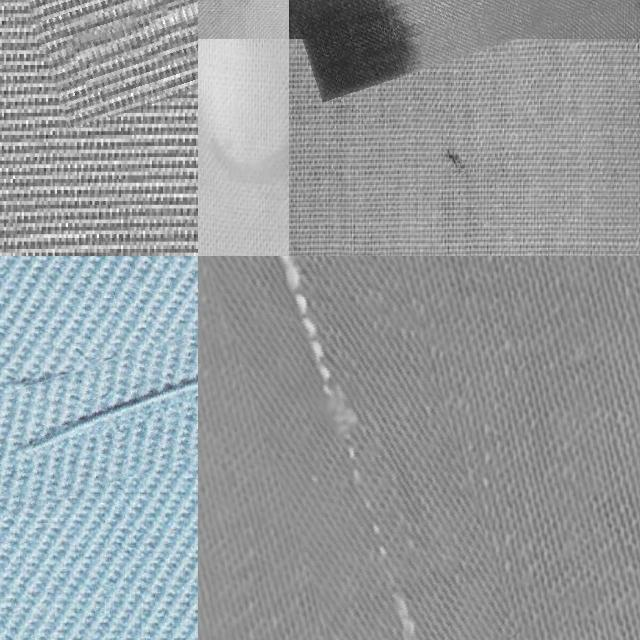Thread_other: (283, 0, 640, 70)
stains: (235, 256, 483, 640), (0, 288, 198, 481), (21, 0, 198, 97)
